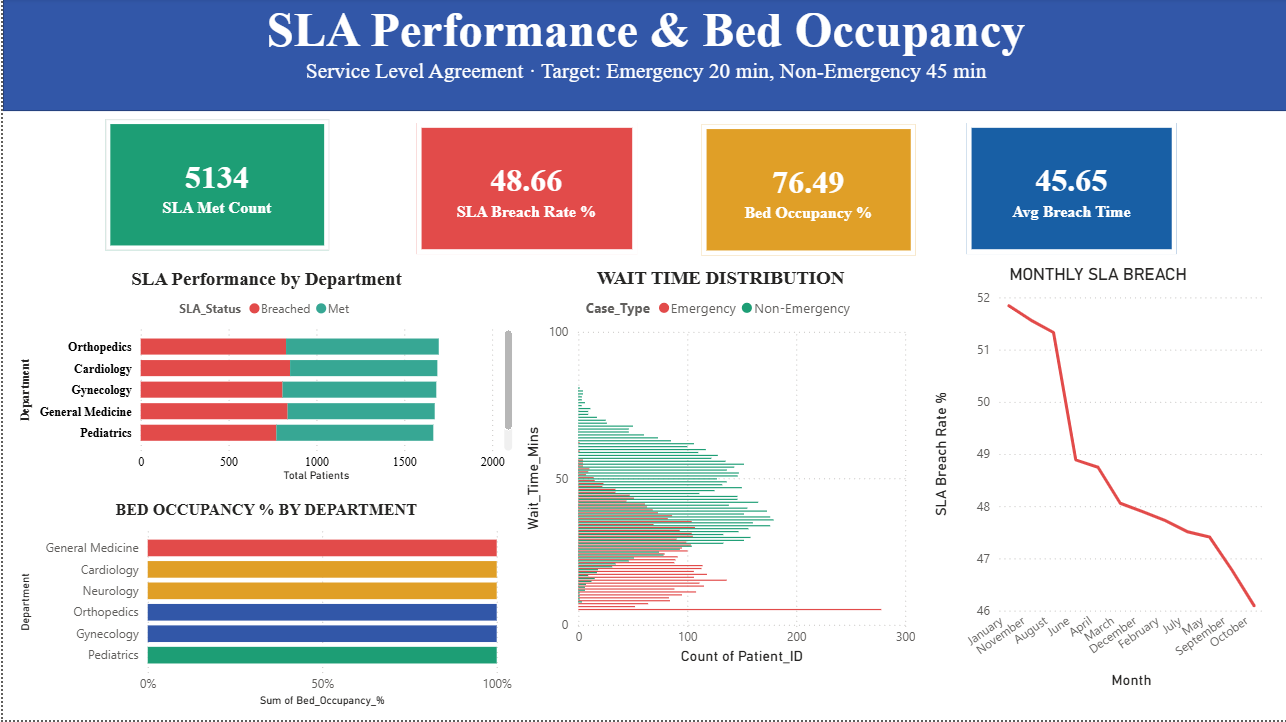

The dashboard page shown, as its layout file describes it:
{"tool":"powerbi","page":{"name":"SLA Performance","canvas":[1280,720],"ordinal":1},"visuals":[{"type":"card","fields":{"Values":["Hospital_ER_Dataset.SLA Met Count"]},"box":[102.3,121.2,222.7,130.6],"z":0},{"type":"card","fields":{"Values":["Hospital_ER_Dataset.Avg Breach Time"]},"box":[958.6,124.6,209,130.6],"z":1000},{"type":"card","fields":{"Values":["Hospital_ER_Dataset.Bed Occupancy %"]},"box":[695.9,125.6,212.7,130.6],"z":2000},{"type":"card","fields":{"Values":["Hospital_ER_Dataset.SLA Breach Rate %"]},"box":[411.8,123.9,218.9,130.6],"z":3000},{"type":"barChart","title":"SLA Performance by Department","fields":{"Category":["Hospital_ER_Dataset.Department"],"Y":["Hospital_ER_Dataset.Total Patients"],"Series":["Hospital_ER_Dataset.SLA_Status"]},"box":[12.4,268.7,499.6,217.7],"z":4000},{"type":"hundredPercentStackedBarChart","title":"BED OCCUPANCY % BY DEPARTMENT","fields":{"Category":["Hospital_ER_Dataset.Department"],"Y":["Sum(Hospital_ER_Dataset.Bed_Occupancy_%)"]},"box":[12.4,500.1,499.1,210.2],"z":5000},{"type":"lineChart","title":"MONTHLY SLA BREACH","fields":{"Y":["Hospital_ER_Dataset.SLA Breach Rate %"],"Category":["Hospital_ER_Dataset.Month"]},"box":[920.3,265,338.6,426.7],"z":6000},{"type":"clusteredBarChart","title":"WAIT TIME DISTRIBUTION","fields":{"Category":["Hospital_ER_Dataset.Wait_Time_Mins"],"Y":["CountNonNull(Hospital_ER_Dataset.Patient_ID)"],"Series":["Hospital_ER_Dataset.Case_Type"]},"box":[515,267.5,398.1,400.6],"z":7000},{"type":"shape","box":[0,0,1280,112.5],"z":8000},{"type":"textbox","box":[0,0,1280,112.5],"z":9000}]}

Visuals, with their boxes in screenshot pixels (x1, y1, x2, y2), scaled from the page's 1280x720 canvas onto the 1286x722 screenshot:
card - Hospital_ER_Dataset.SLA Met Count: (x1=103, y1=122, x2=327, y2=252)
card - Hospital_ER_Dataset.Avg Breach Time: (x1=963, y1=125, x2=1173, y2=256)
card - Hospital_ER_Dataset.Bed Occupancy %: (x1=699, y1=126, x2=913, y2=257)
card - Hospital_ER_Dataset.SLA Breach Rate %: (x1=414, y1=124, x2=634, y2=255)
"SLA Performance by Department" barChart: (x1=12, y1=269, x2=514, y2=488)
"BED OCCUPANCY % BY DEPARTMENT" hundredPercentStackedBarChart: (x1=12, y1=501, x2=514, y2=712)
"MONTHLY SLA BREACH" lineChart: (x1=925, y1=266, x2=1265, y2=694)
"WAIT TIME DISTRIBUTION" clusteredBarChart: (x1=517, y1=268, x2=917, y2=670)
shape: (x1=0, y1=0, x2=1285, y2=113)
textbox: (x1=0, y1=0, x2=1285, y2=113)
